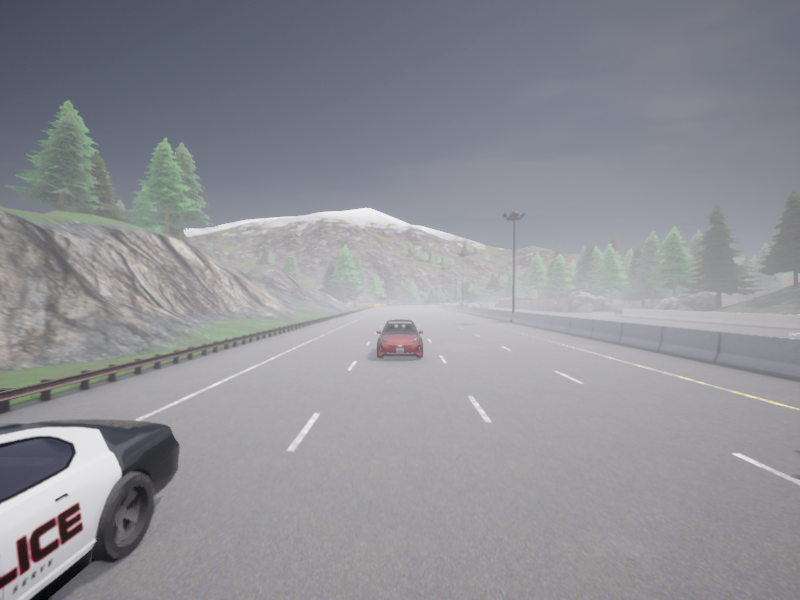vehicle: (0, 419, 179, 599), (376, 319, 423, 358), (479, 303, 487, 307), (463, 300, 468, 306), (471, 304, 476, 307), (456, 303, 463, 305)
